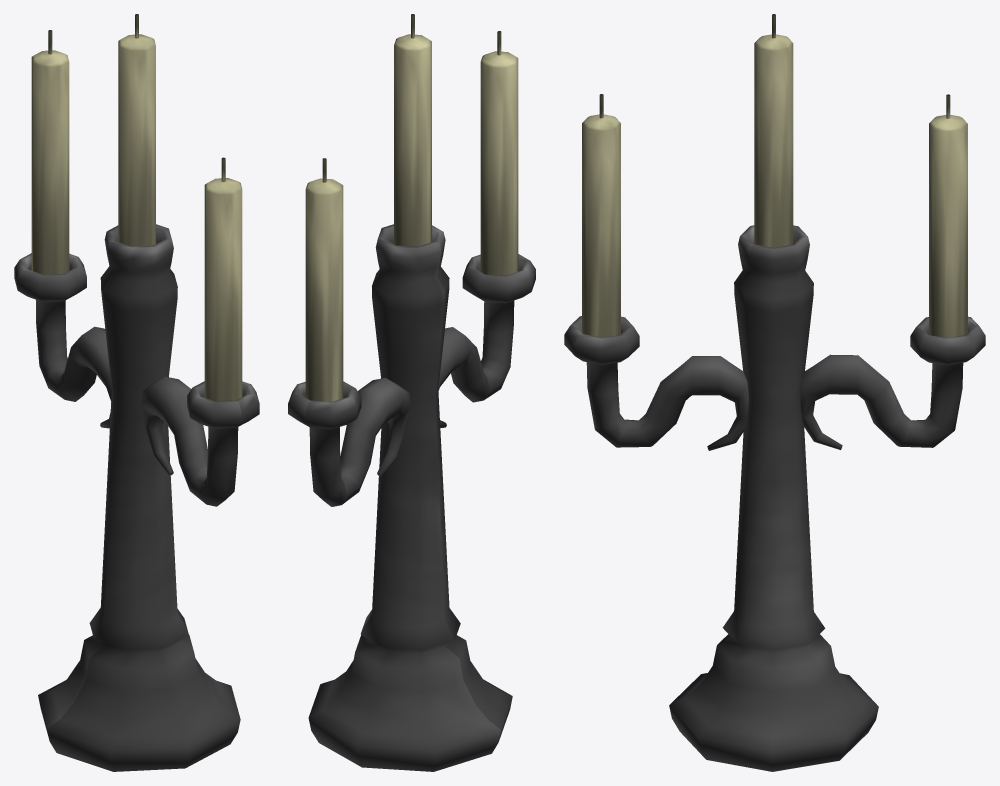
The model's file is candle.obj.
The picture shows the model from 3 angles, left to right: view 1: azimuth 30°, elevation 25°; view 2: azimuth 150°, elevation 25°; view 3: azimuth 270°, elevation 25°; orthographic projection.
Parts seen in each view (by area): view 1: Circle; view 2: Circle; view 3: Circle.
Part boxes in pixels (bbox=[...]): Circle: bbox=[14, 14, 259, 771]; Circle: bbox=[288, 14, 535, 771]; Circle: bbox=[564, 14, 985, 771].
Size of the model in its own units: 0.5392 by 2.03 by 1.08.
